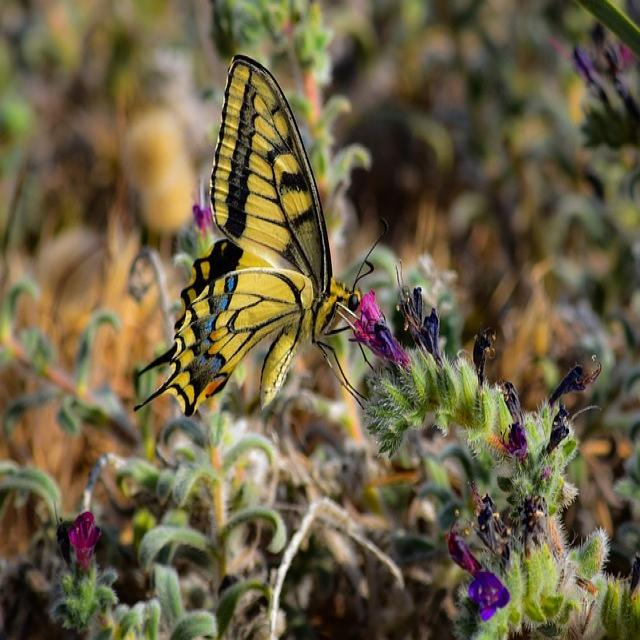butterfly: (176, 56, 350, 391)
